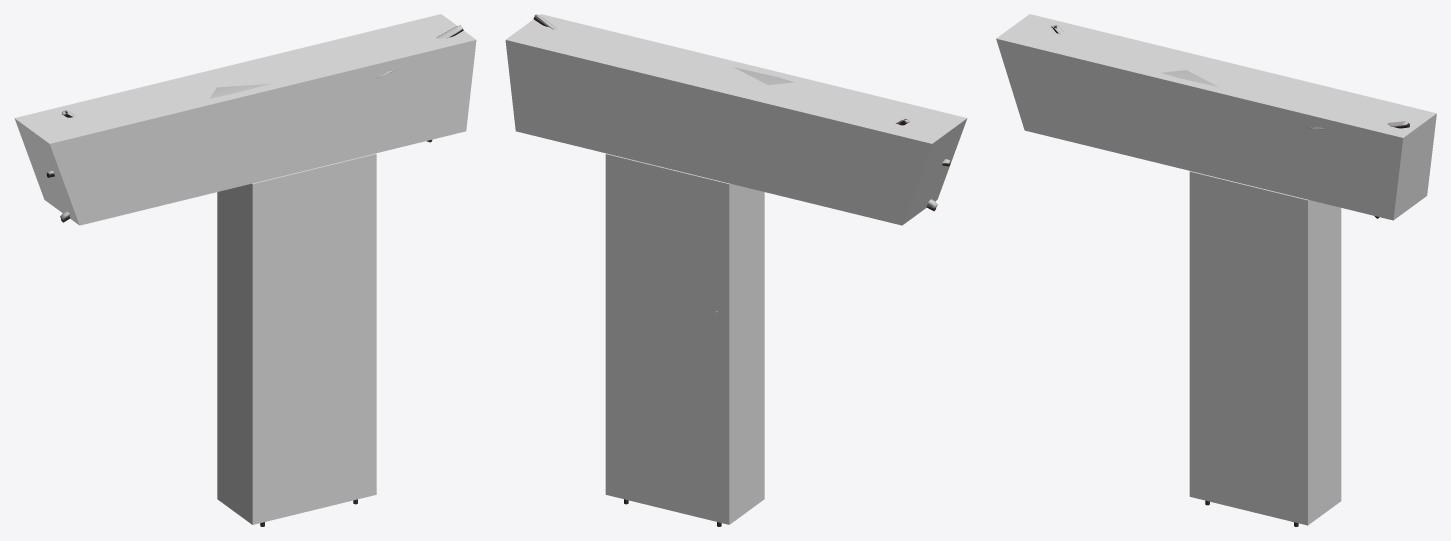
File: Arch_type03.fbx
3 views of the same model, side by side, from view 1: azimuth 30°, elevation 25°; view 2: azimuth 150°, elevation 25°; view 3: azimuth 330°, elevation 25° (orthographic). The views are drawn at different scales.
Visible parts, largest first — view 1: Arch_type03_col, snow; view 2: Arch_type03_col, snow; view 3: Arch_type03_col, snow.
Part boxes in pixels (x1=…): Arch_type03_col: x1=14, y1=14, x2=476, y2=524; snow: x1=46, y1=25, x2=462, y2=219; Arch_type03_col: x1=505, y1=14, x2=967, y2=524; snow: x1=534, y1=14, x2=950, y2=312; Arch_type03_col: x1=996, y1=14, x2=1436, y2=525; snow: x1=1051, y1=25, x2=1408, y2=129.
Bounding box in the file's own units: 222 × 222 × 32.96.
